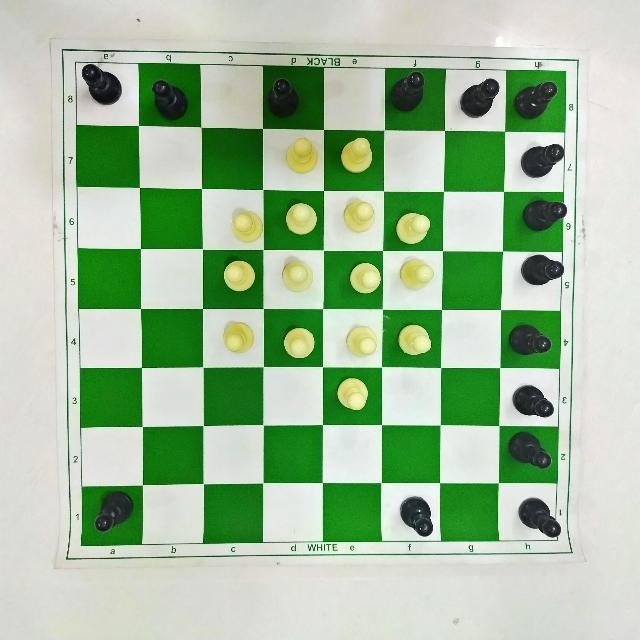black-pawn: (84, 489, 137, 538), (518, 494, 568, 544), (397, 489, 440, 546), (504, 317, 560, 357), (455, 75, 503, 121), (505, 428, 553, 473), (150, 71, 192, 122), (508, 81, 559, 123), (79, 58, 121, 108), (387, 67, 429, 117), (516, 196, 571, 234), (518, 138, 570, 176), (507, 380, 556, 419), (515, 250, 566, 287), (268, 69, 304, 121)
white-pawn: (338, 134, 376, 174), (396, 321, 434, 359), (284, 135, 320, 174), (393, 210, 430, 246), (229, 207, 265, 243), (283, 200, 318, 236), (336, 377, 371, 413), (279, 326, 316, 360), (221, 258, 256, 293), (347, 324, 381, 359), (399, 256, 435, 289), (278, 260, 314, 292), (221, 321, 253, 357), (349, 262, 382, 296), (342, 200, 375, 232)
